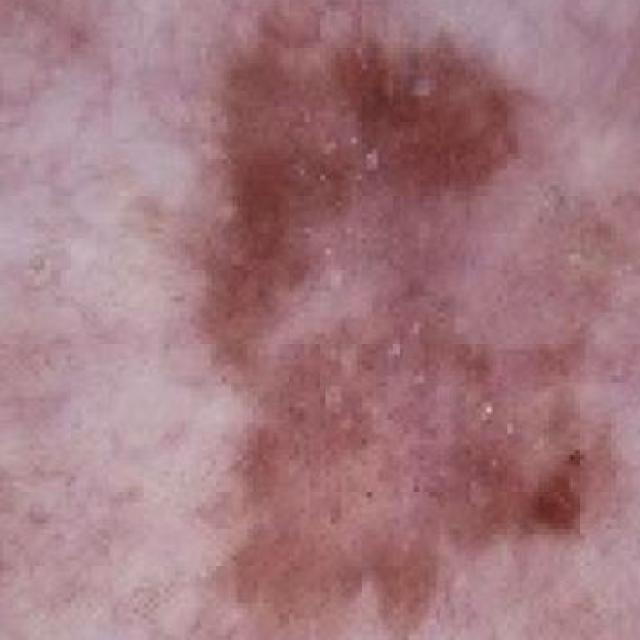BKL: (167, 0, 640, 640)
